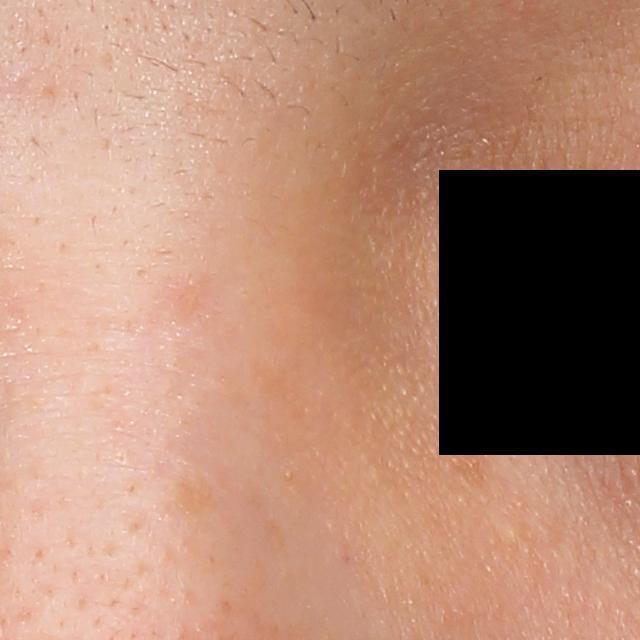melasma: (171, 474, 216, 522), (453, 440, 495, 488)
